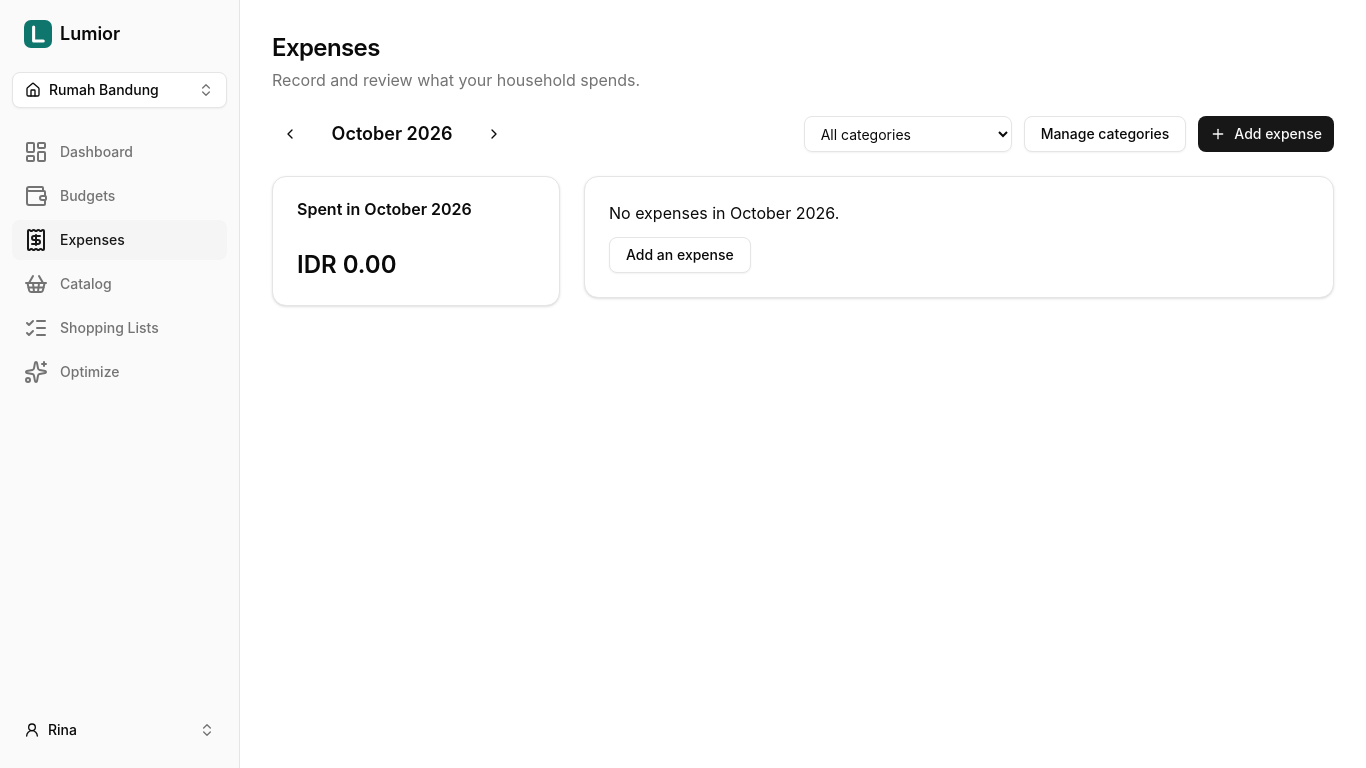
Test case: categories page › is opened from the Expenses page and lists active and archived categories
Click the link "Manage categories".
click(1105, 134)  # box [1024,116,1186,152]
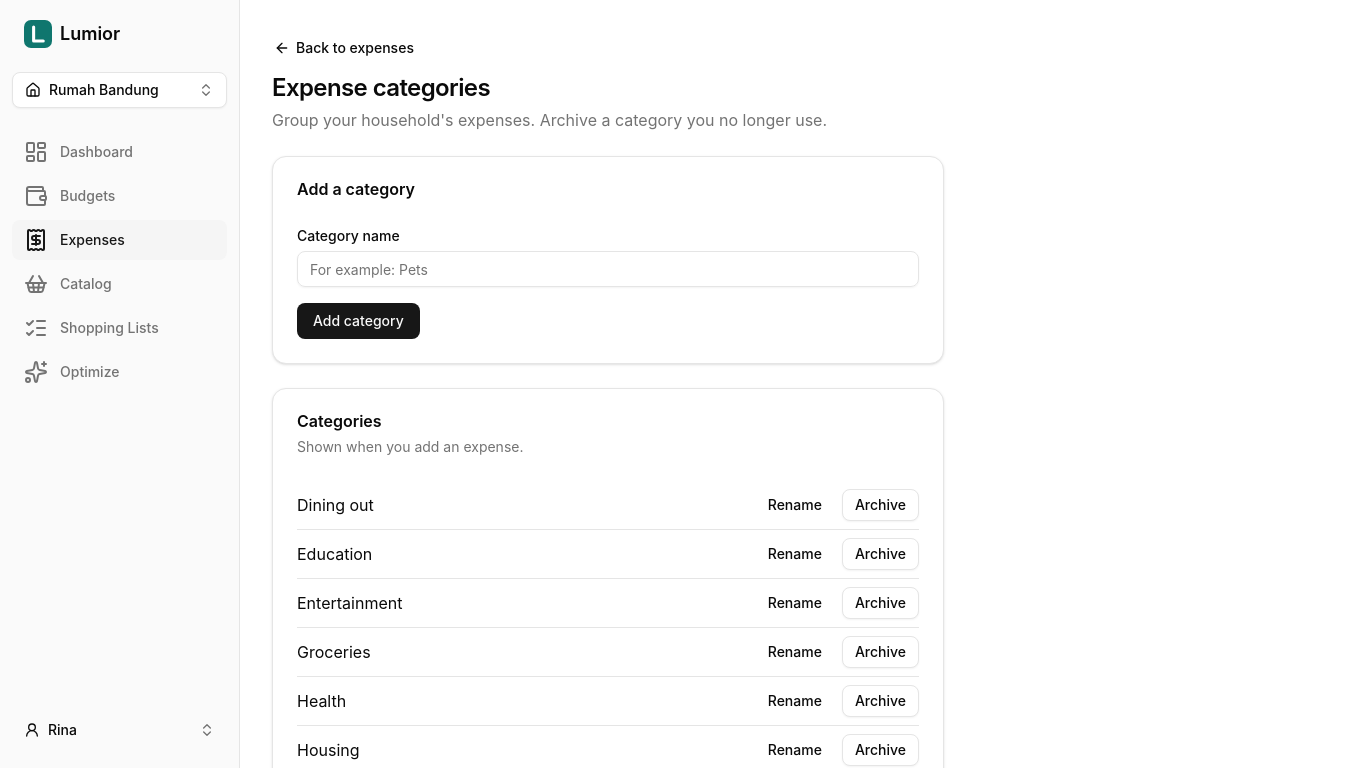
Expected: the heading "Expense categories" is shown, [272,73,490,102]
